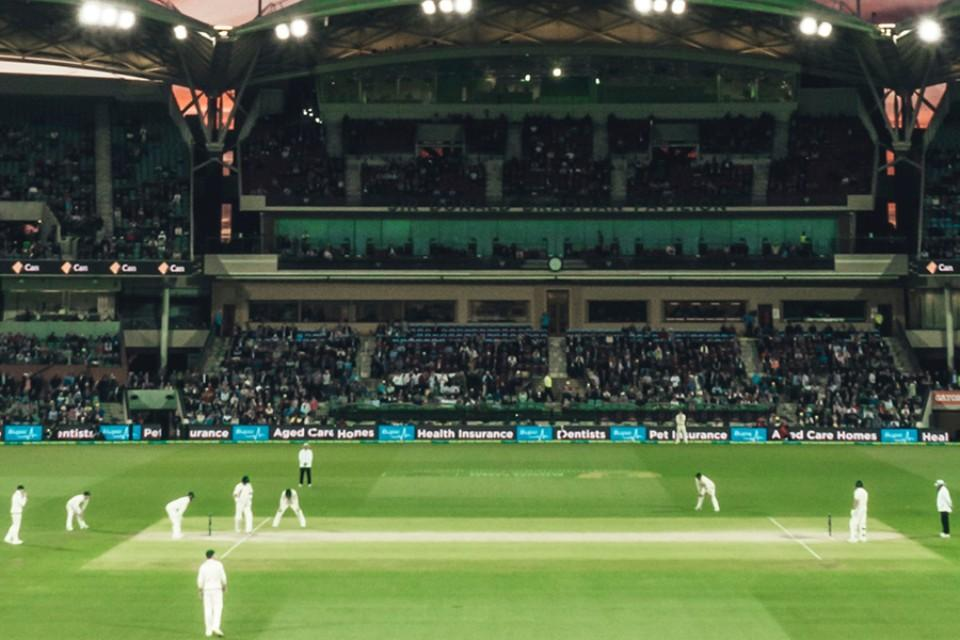batsman: (231, 474, 258, 537)
